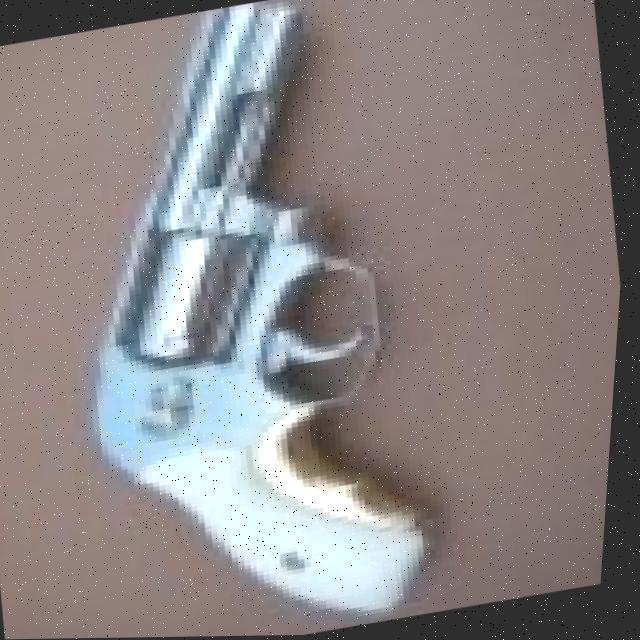pistol: (19, 0, 486, 639)
